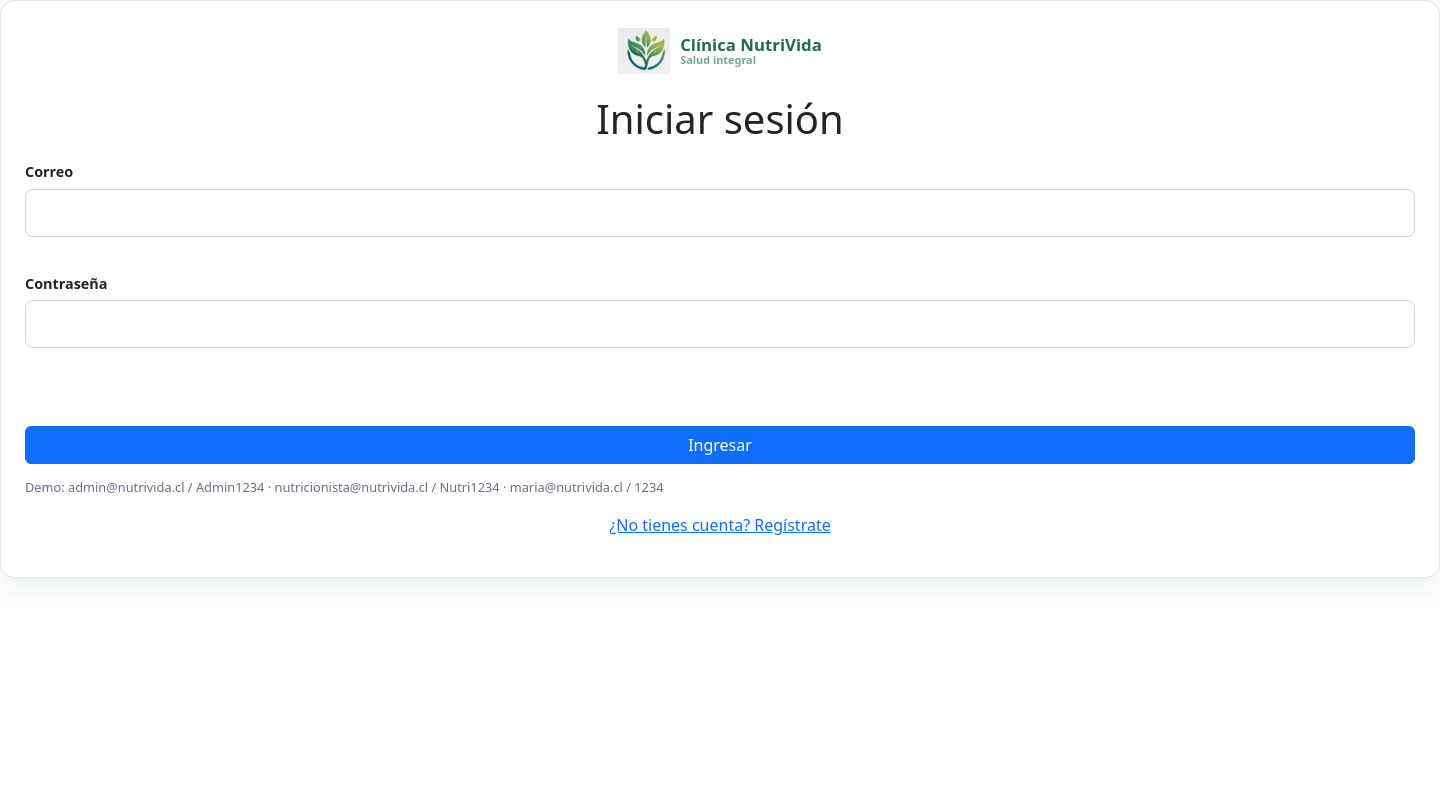
Test: FormLogin › muestra errores de validacion para campos vacios
Click the button "Ingresar" at (720, 445), box [25,426,1415,464]
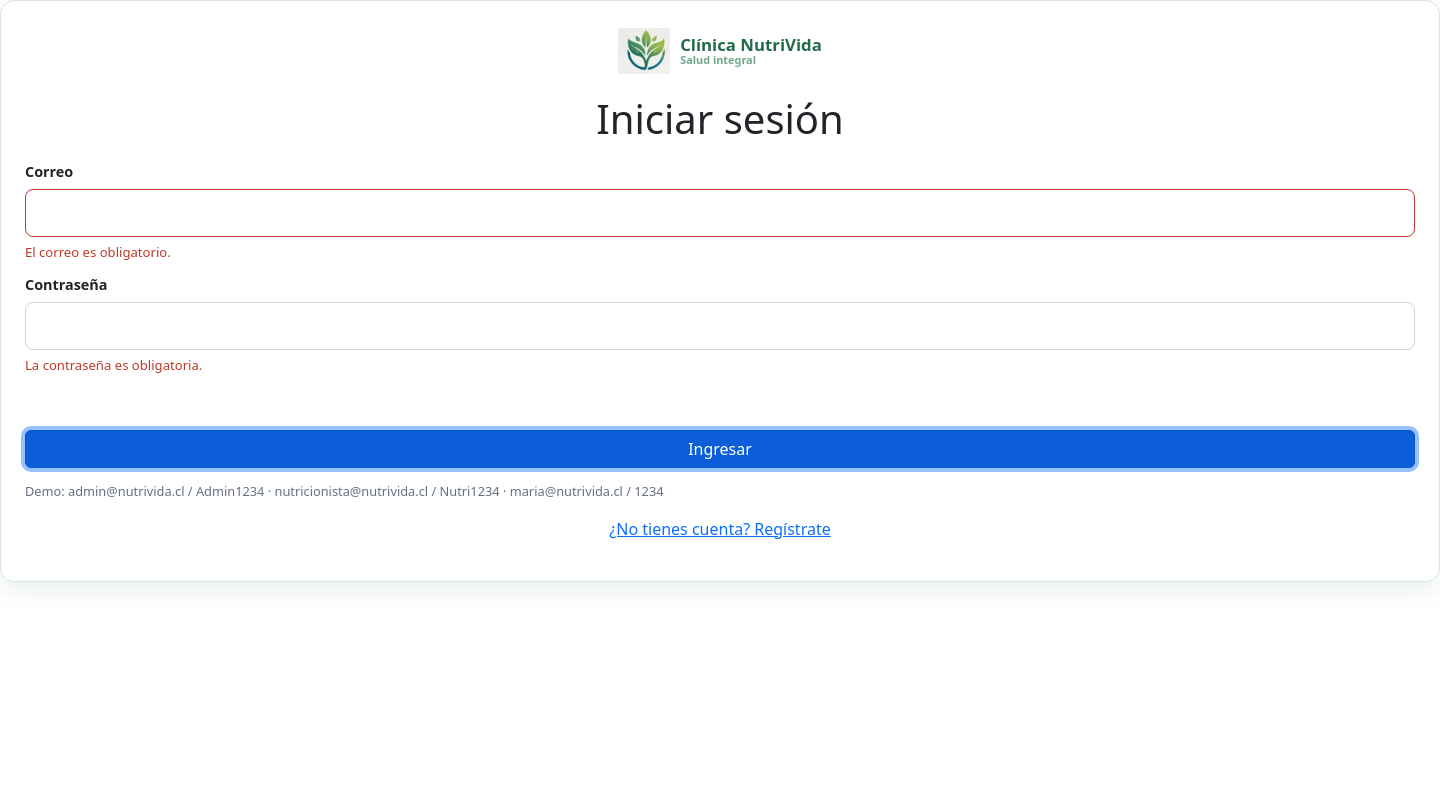
Expected: the text "El correo es obligatorio." is shown, [25,243,171,261]
Expected: the text "La contraseña es obligatoria." is shown, [25,356,202,374]
